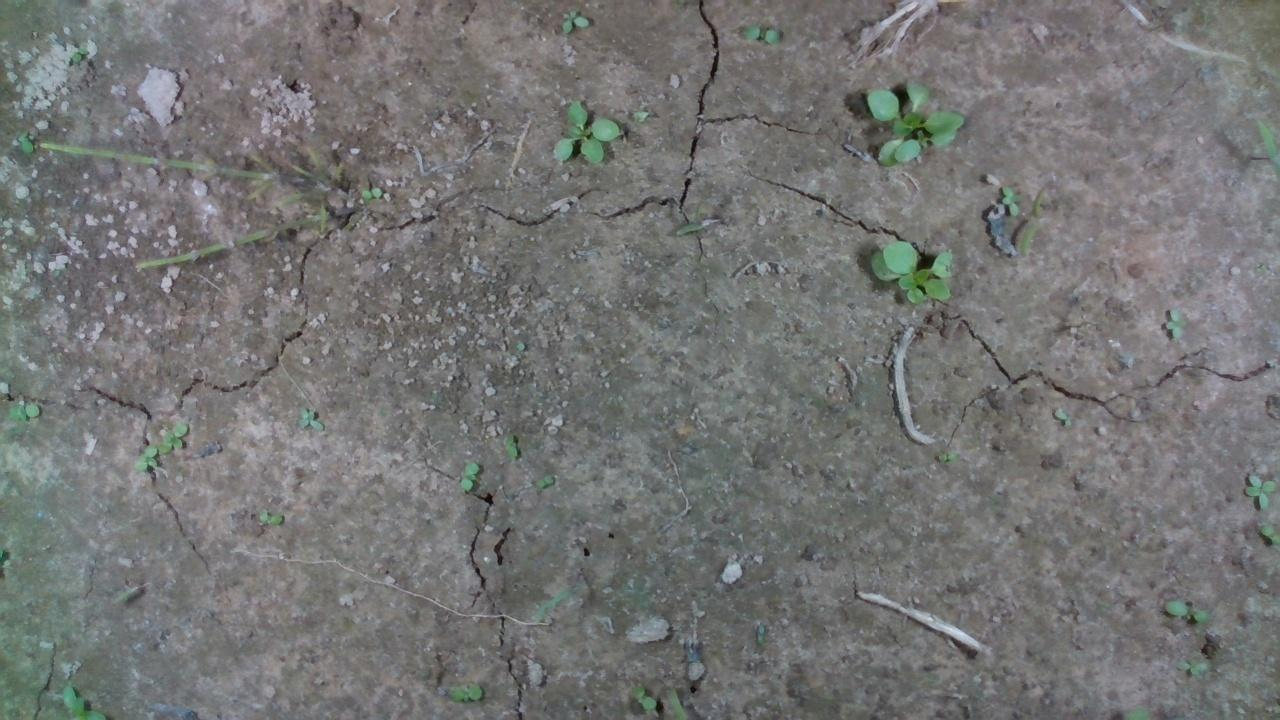weed: (1163, 593, 1212, 631), (1243, 469, 1275, 512), (450, 459, 486, 497), (1162, 302, 1193, 345), (1170, 654, 1211, 680), (557, 4, 591, 33), (295, 402, 324, 433), (999, 180, 1022, 217)
